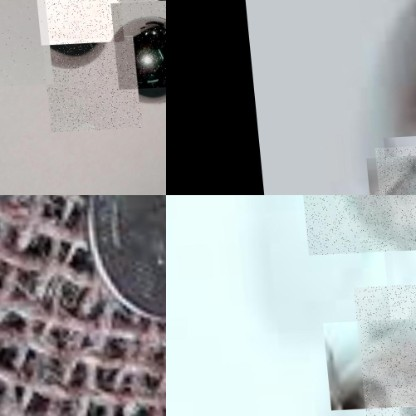ironball: (40, 39, 138, 134), (349, 286, 415, 415), (292, 195, 415, 258), (109, 2, 166, 92), (0, 0, 50, 89), (32, 0, 122, 47), (370, 145, 415, 195)
